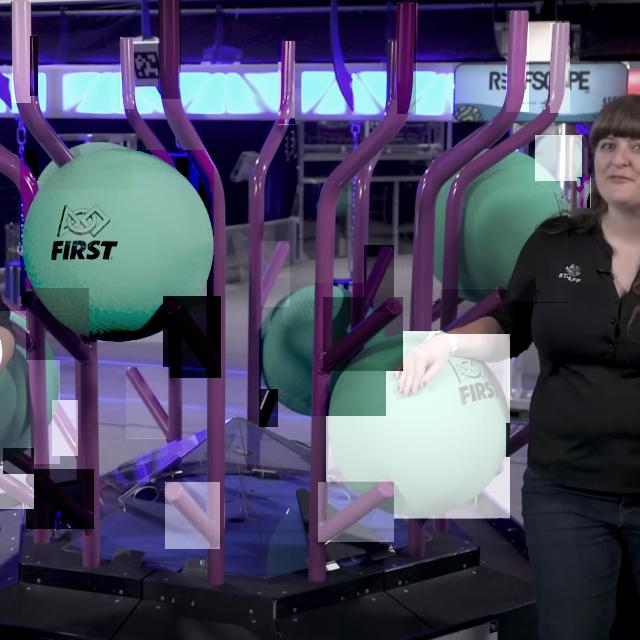Algae: (21, 150, 214, 342), (327, 332, 510, 520), (432, 150, 568, 304), (259, 283, 386, 416), (0, 311, 60, 464), (38, 142, 131, 189), (535, 135, 582, 181), (578, 177, 592, 208)
Reef: (323, 297, 403, 371), (163, 296, 221, 378), (318, 482, 394, 542), (26, 288, 89, 360), (26, 469, 94, 529), (165, 482, 220, 549), (126, 368, 170, 440), (440, 289, 510, 334), (506, 10, 529, 112), (158, 0, 181, 99), (398, 1, 418, 114), (364, 245, 394, 312), (12, 0, 31, 103), (261, 241, 290, 307), (550, 23, 570, 114), (0, 466, 34, 509), (52, 400, 78, 456), (278, 41, 295, 126), (120, 37, 134, 109), (506, 423, 531, 457), (3, 448, 34, 474), (383, 40, 396, 100), (259, 389, 278, 427), (30, 36, 38, 96)
